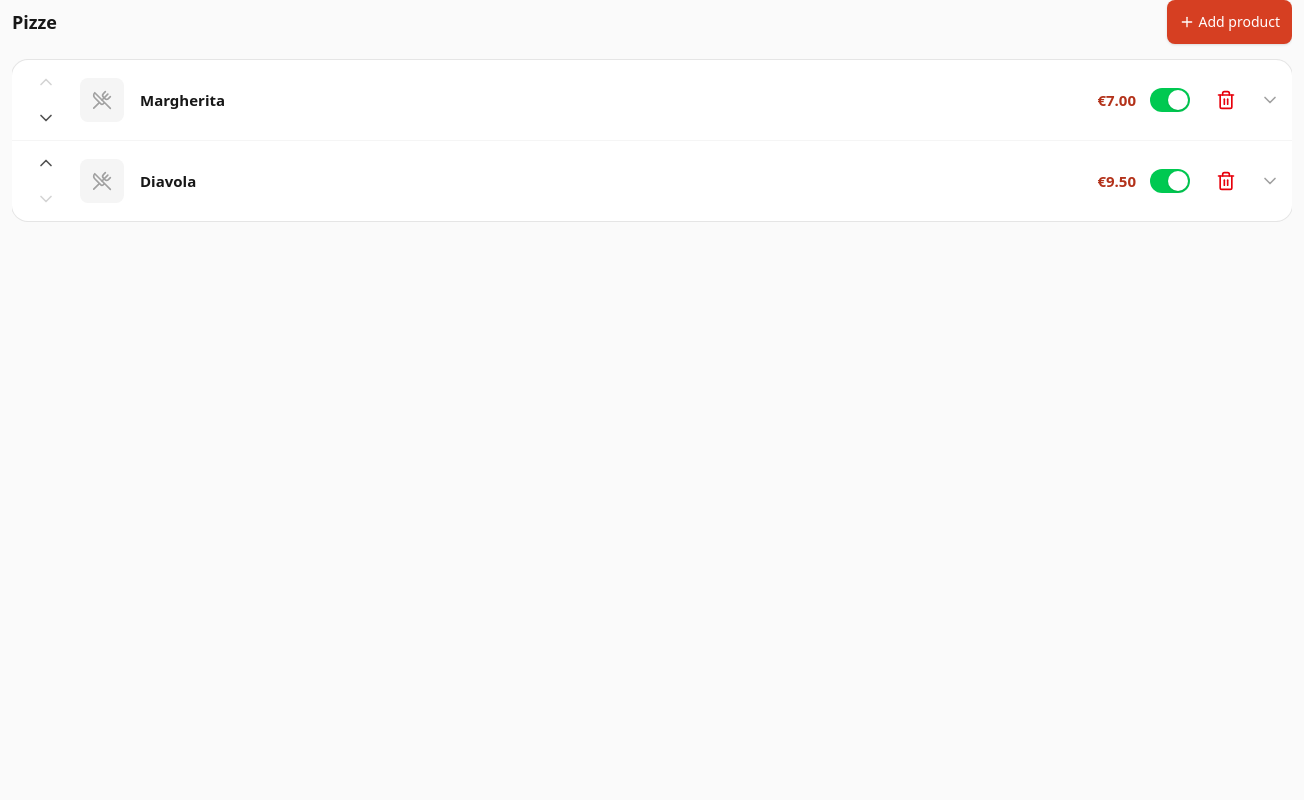
Test: ProductList › adding a product › closes the form on cancel without creating anything
The image size is (1304, 800).
Click the button "Add product".
click(1229, 22)  # box [1167,0,1292,44]
(page scrolled)
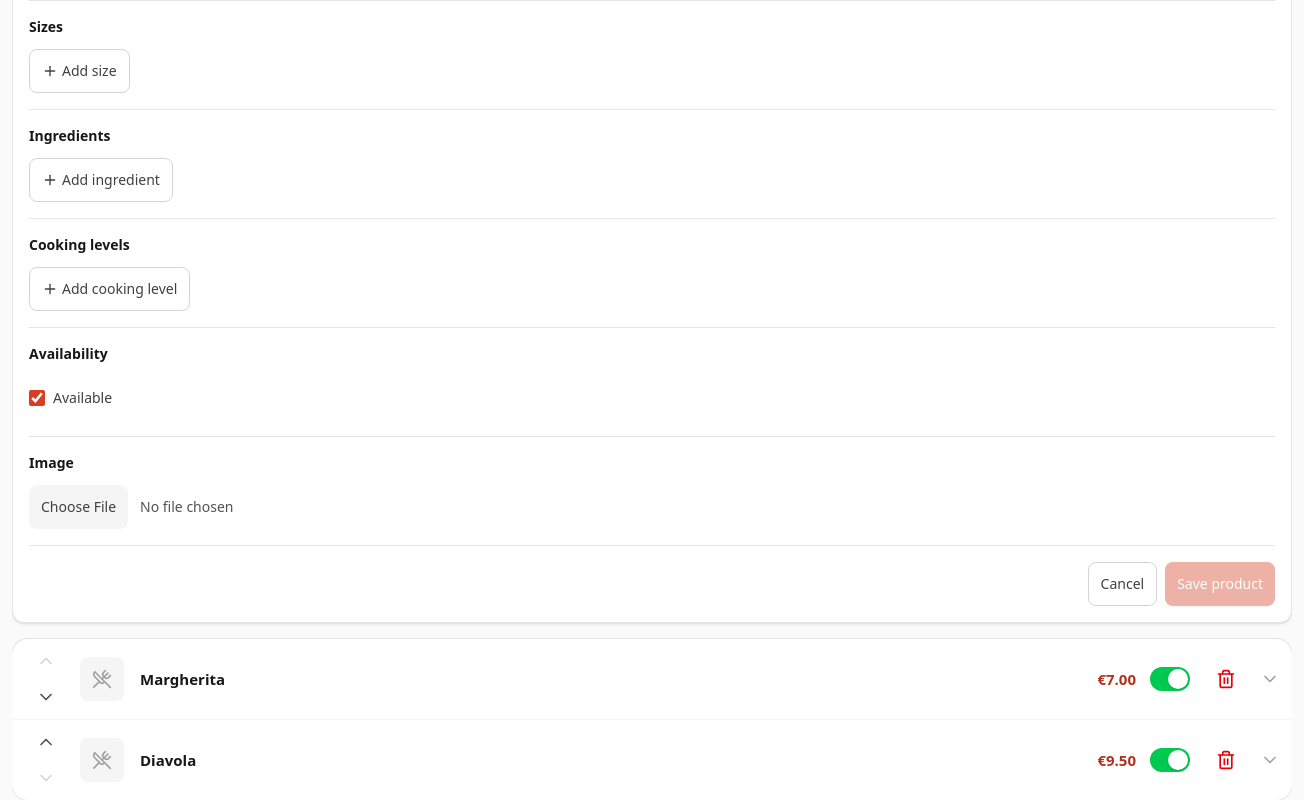
Click the button "Cancel".
click(1122, 584)  # box [1088,562,1157,606]
(page scrolled)
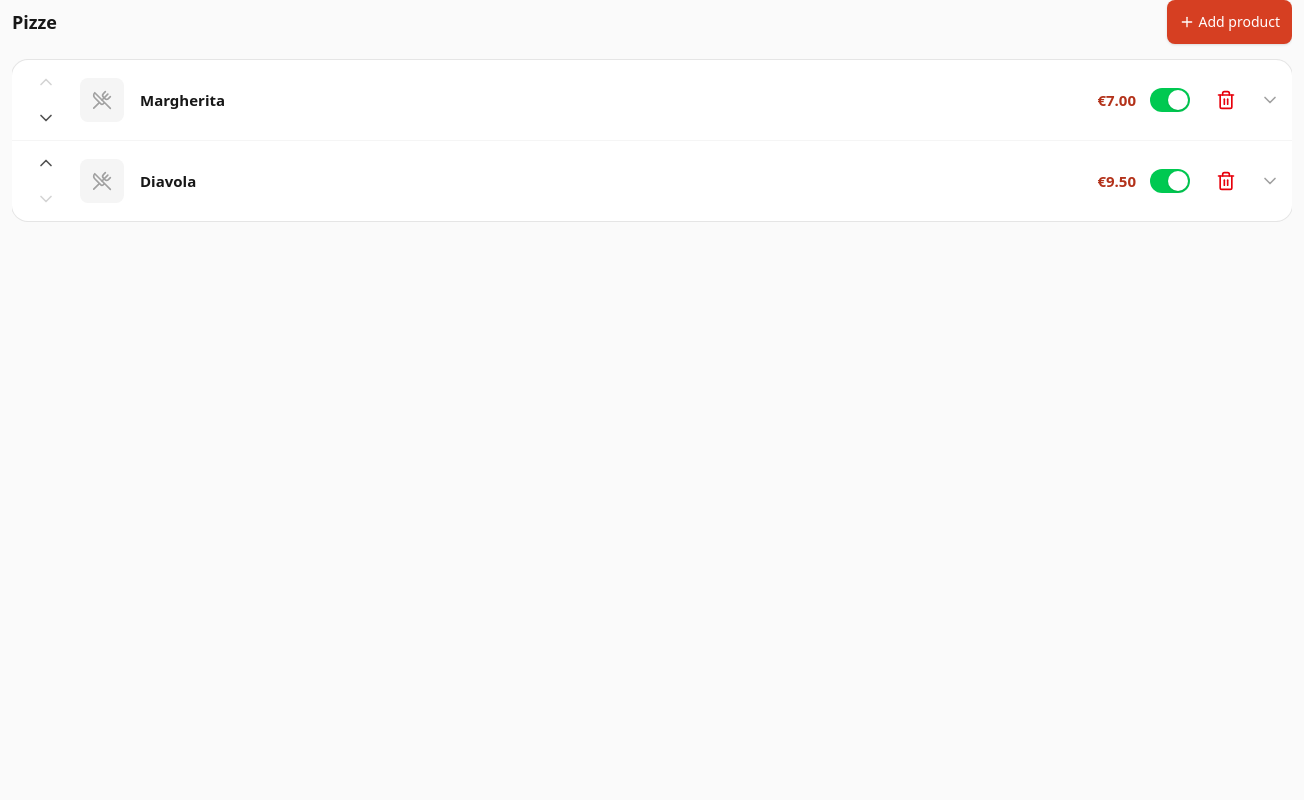
expect the button "Save product" is gone: met
